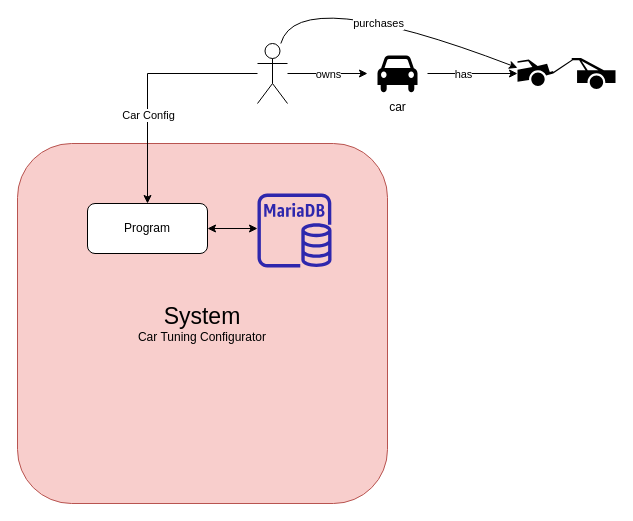
This 633x521 diagram has some shape labels left out. The centre of each missing label's shape, as x and y in pixels:
"TuningItem" belongs at point (566, 73).
"User" belongs at point (272, 73).
